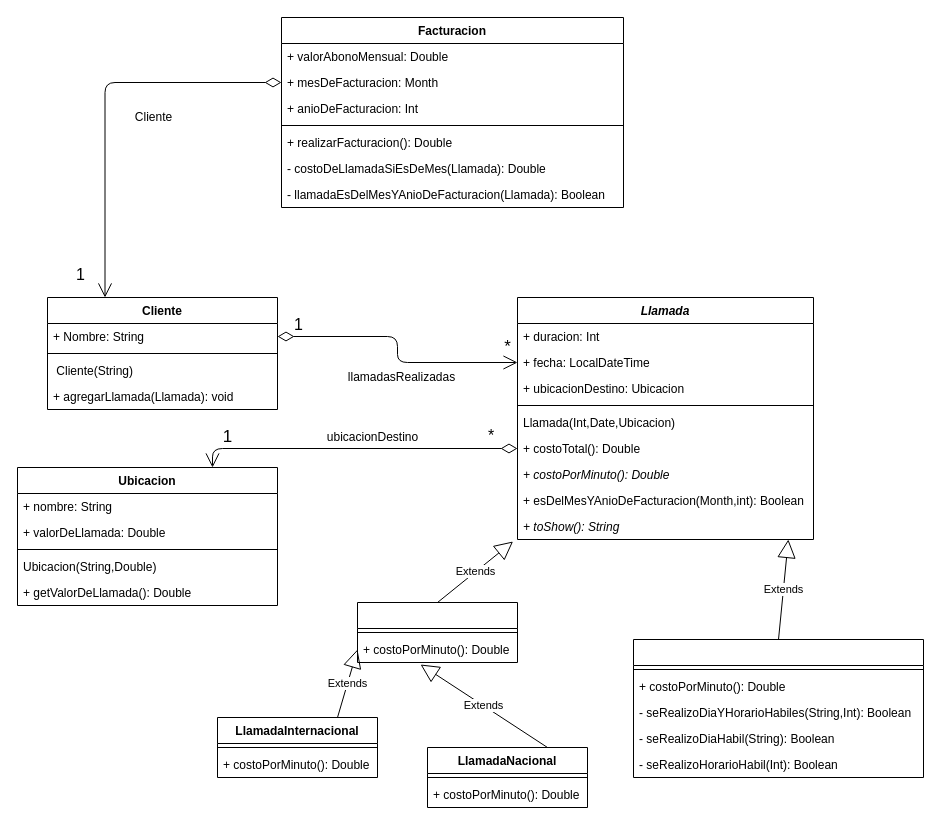
Image size: 941x828. Some labels were removed from this diagram. The box of each missing label's shape, as (x1, y1, x2, y2) in pixels:
LlamadaLocal: (632, 638, 924, 778)
LlamadaNoLocal: (356, 602, 518, 662)
